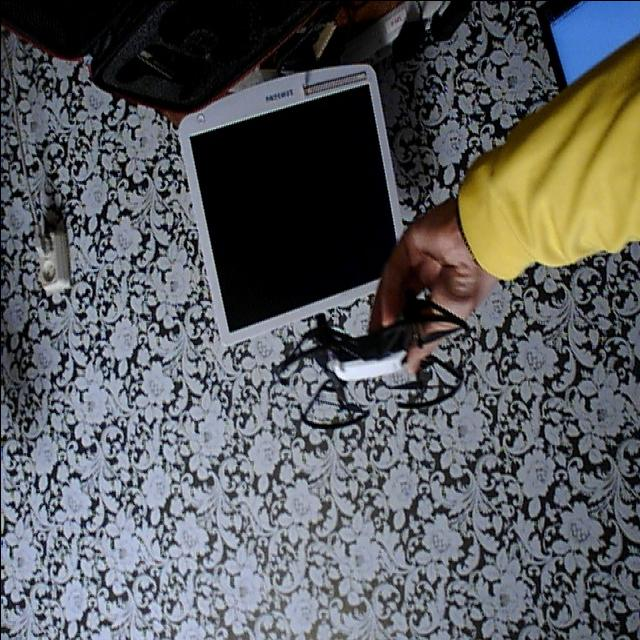drone: (276, 284, 468, 444)
